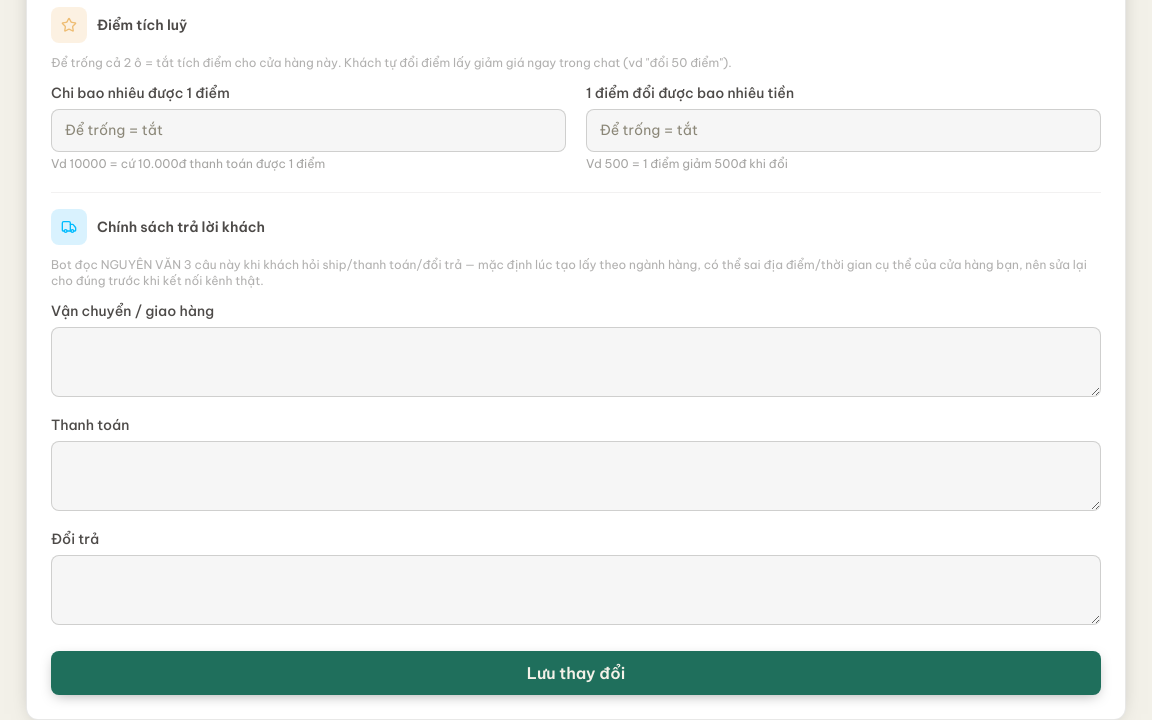
it: StoreConfigPage (portal) — đầu vào sai (bắt buộc phải thất bại đúng cách) › variant_mode: 'nhan' + ô size để trống -> báo lỗi "Cần điền ít nhất 1 size…", KHÔNG gọi API
The width and height of the screenshot is (1152, 720).
(page scrolled)
Click the button "Lưu thay đổi": (576, 673) [51,651,1101,695]
(page scrolled)
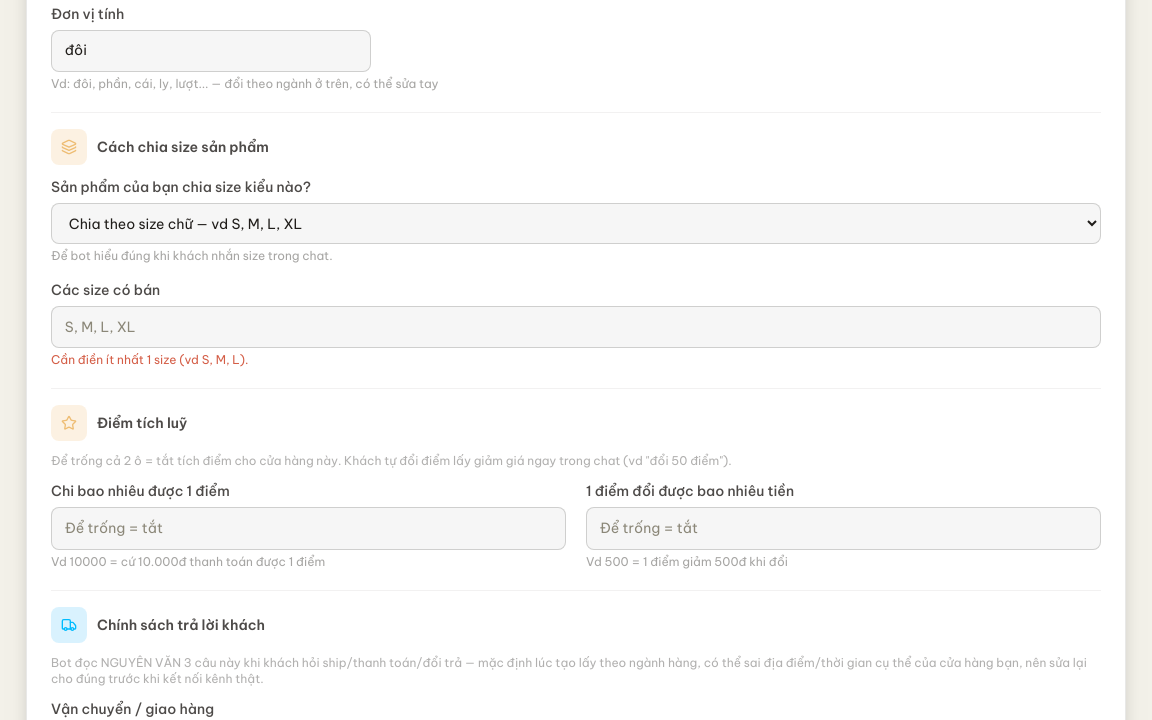
Result: the text "Cần điền ít nhất 1 size (vd S, M, L)." is shown at [51,352,248,367]
